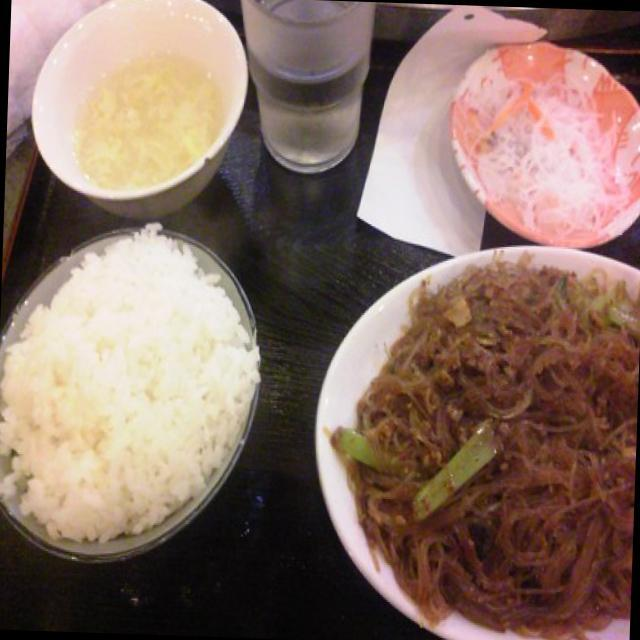Rice: (0, 240, 252, 528)
